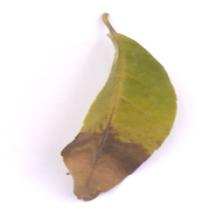black spot: (60, 129, 147, 199)
